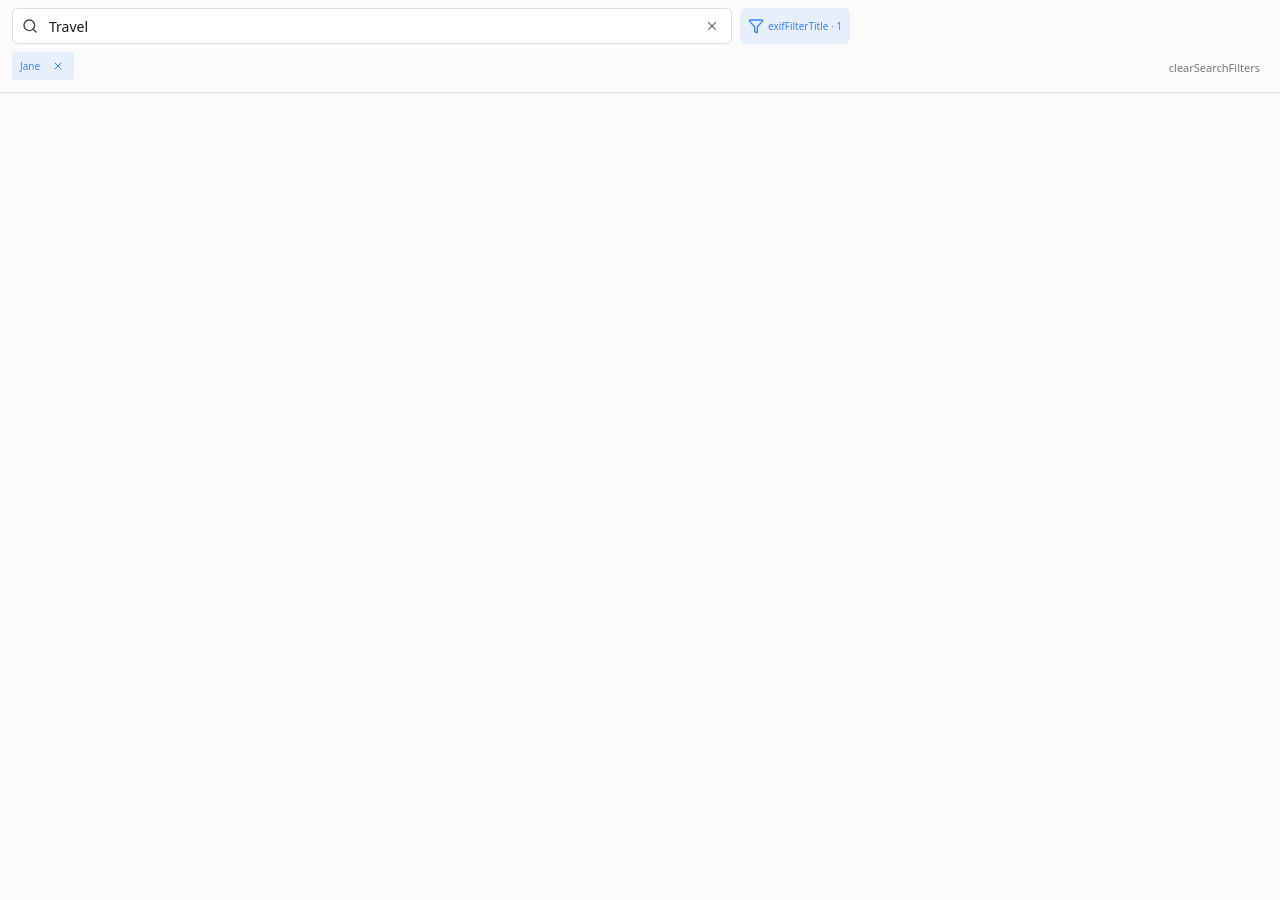
Test: SearchBar › keeps saved search controls inside the search dropdown without a persistent extra row
Expected: the text "搜索预设 (0)" is not shown
Click the dropdown with placeholder "搜索文件名、标签或人物" at (372, 26), box top-left (12, 8), bottom-right (732, 44)
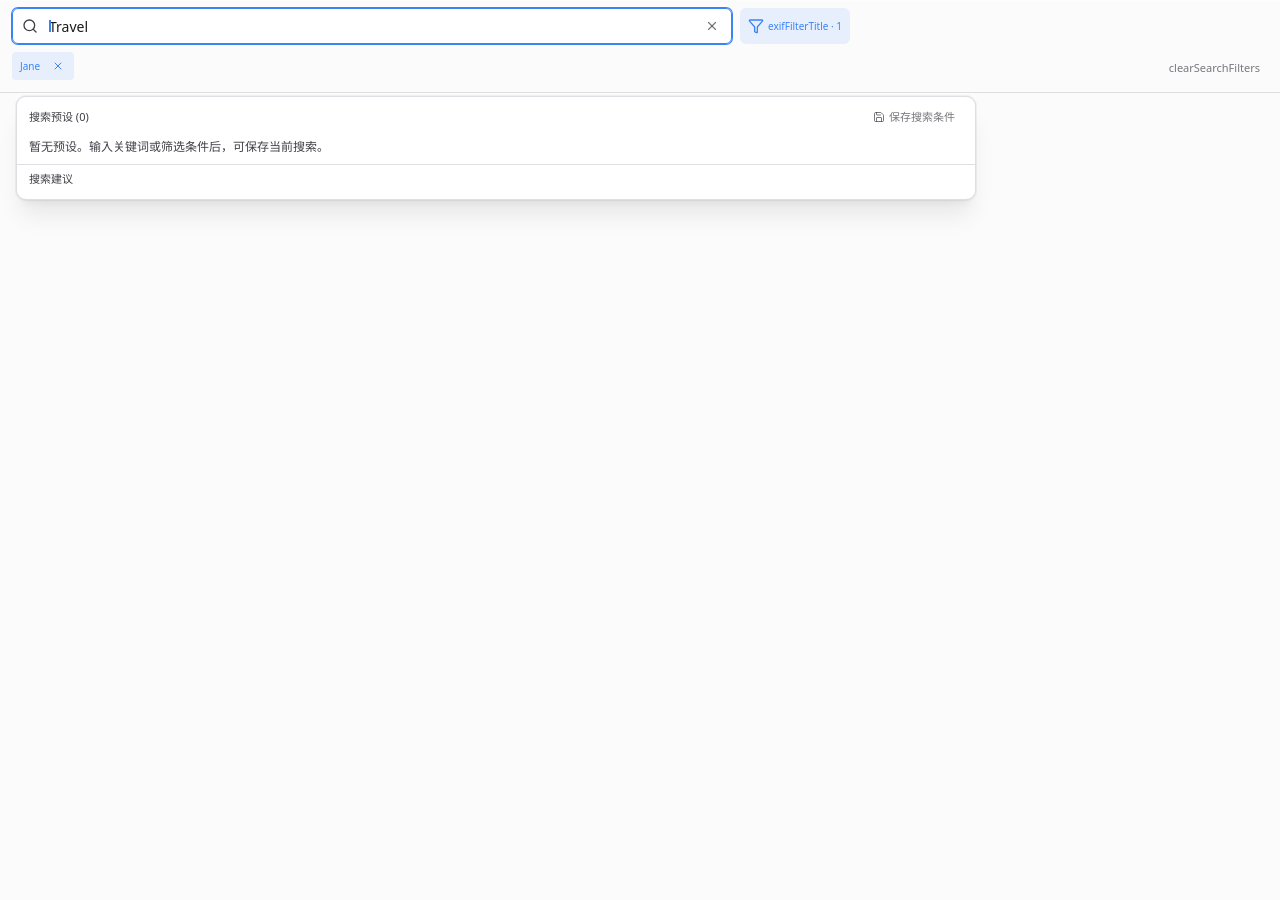
Result: the text "搜索预设 (0)" is shown at top-left (29, 109), bottom-right (89, 124)
Click the button "保存搜索条件" at (914, 117), box top-left (865, 105), bottom-right (963, 130)
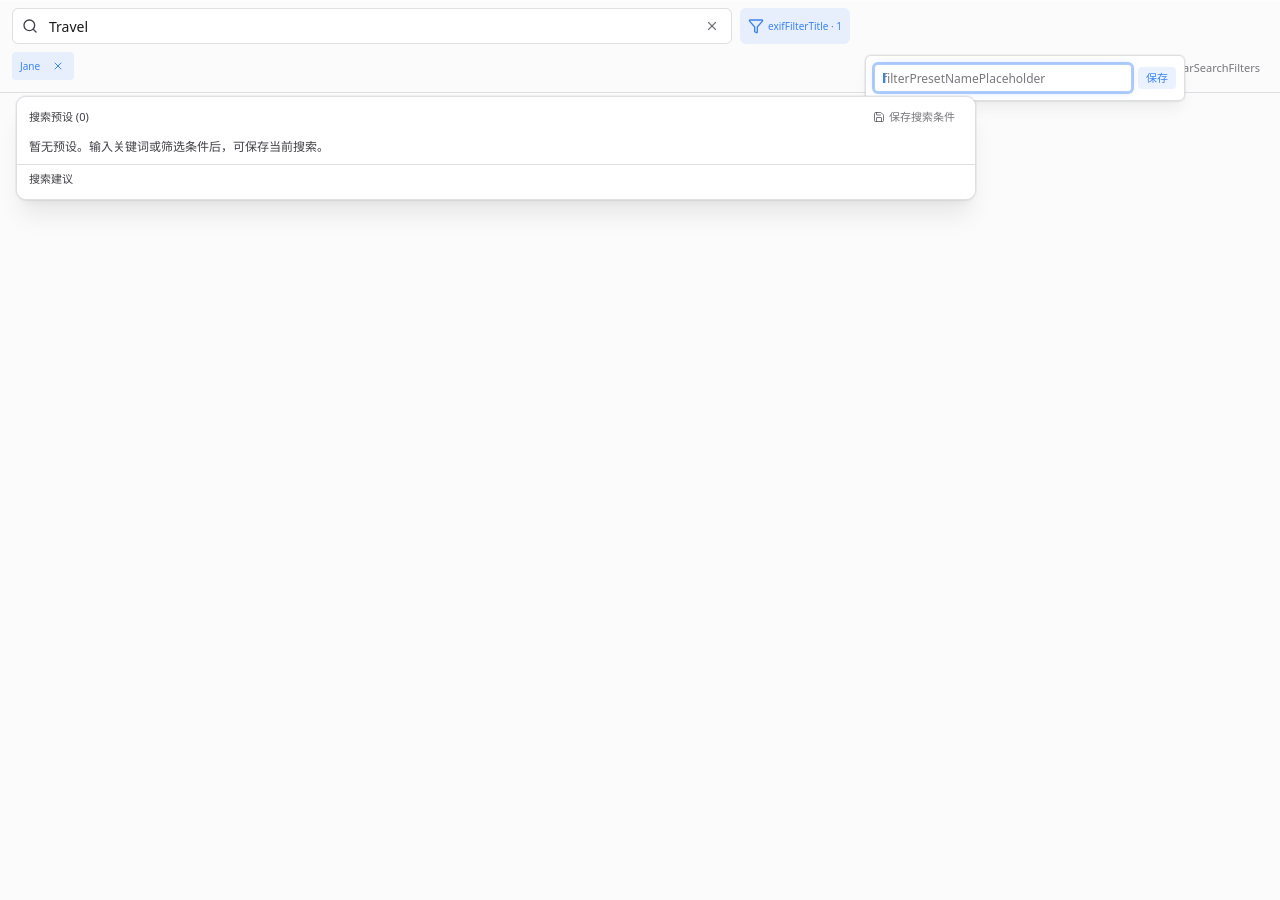
Type "Travel preset" into the field with placeholder "filterPresetNamePlaceholder" at (1003, 78), box top-left (874, 64), bottom-right (1132, 92)
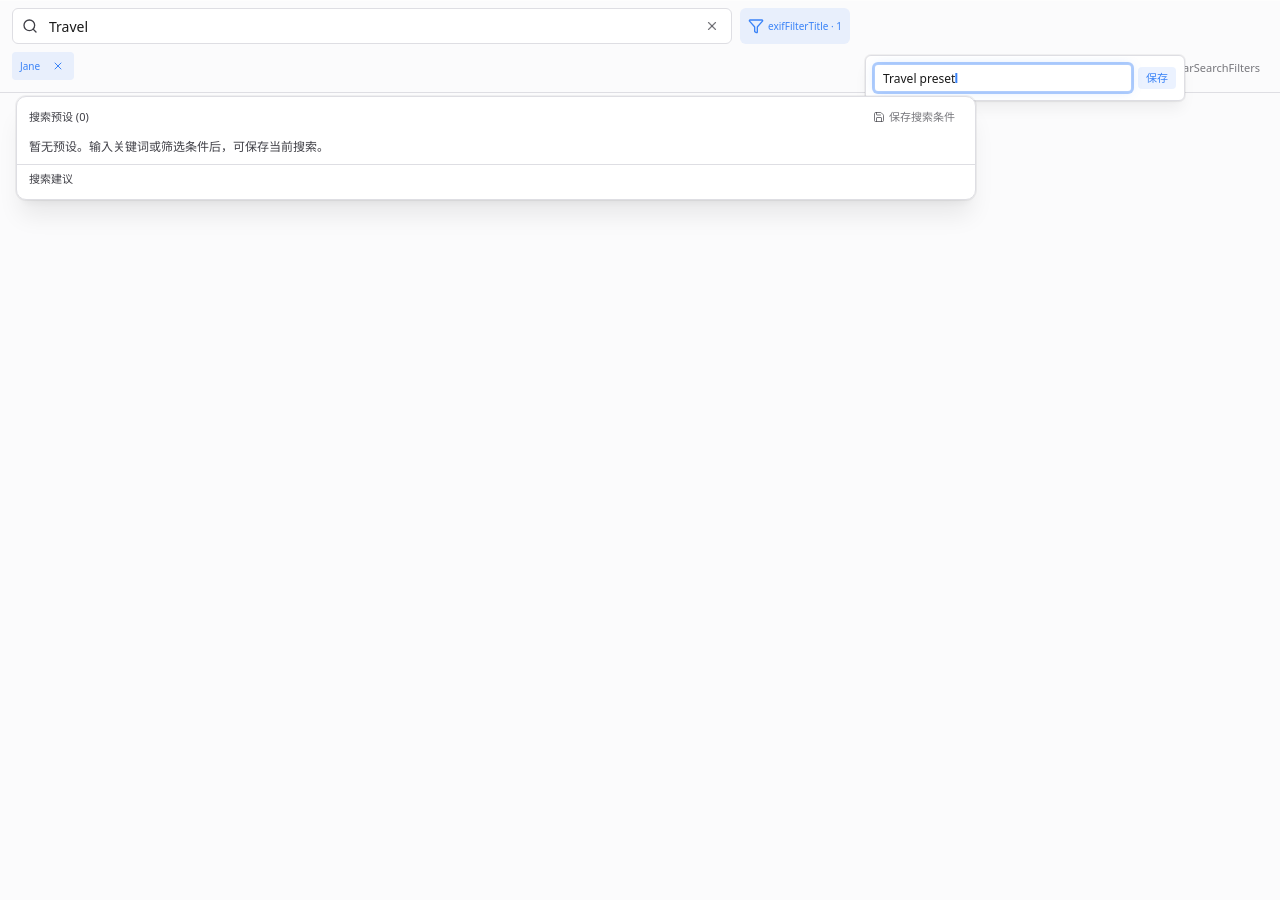
Click the button "保存" at (1157, 78), box top-left (1138, 67), bottom-right (1176, 89)
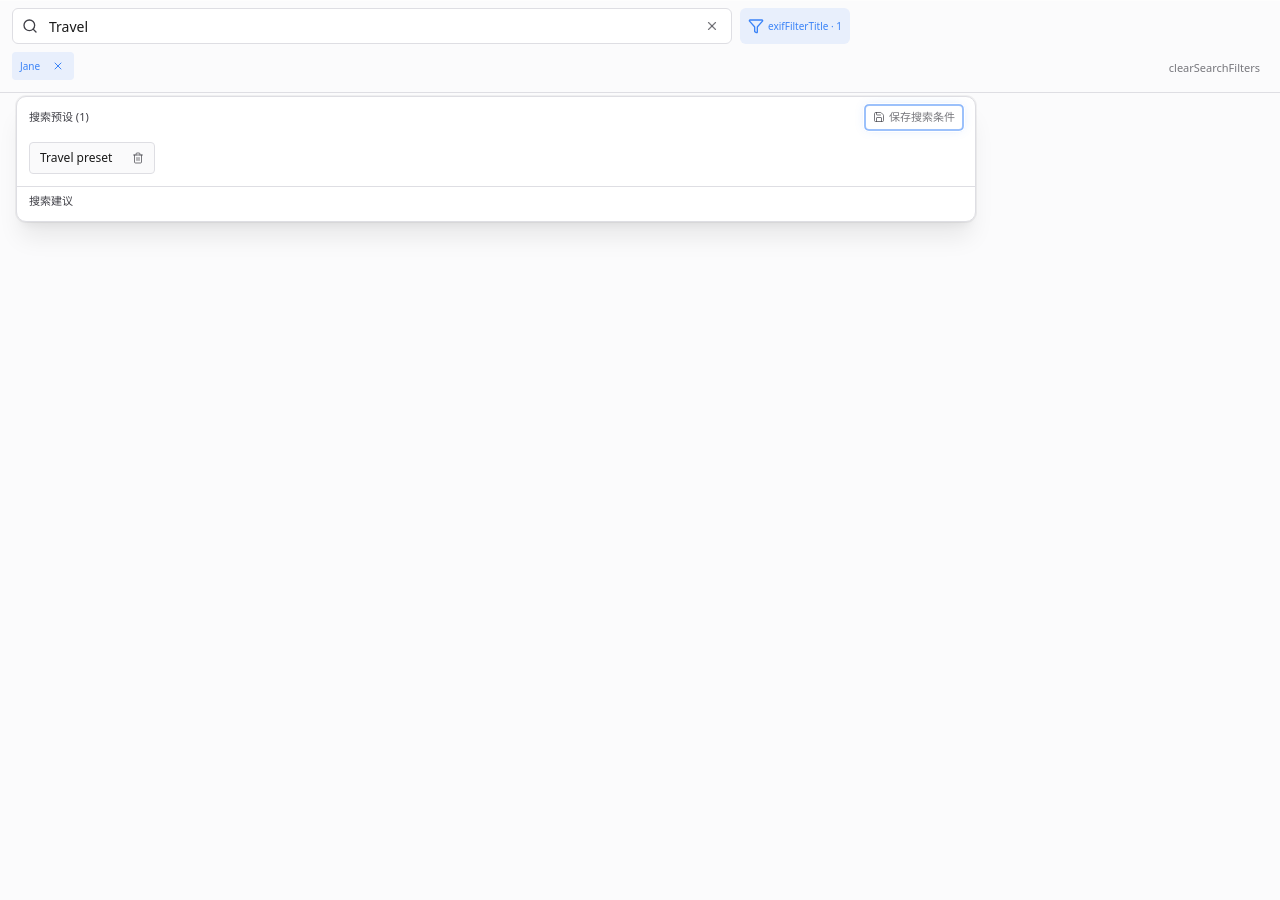
Click the button "Travel preset" at (76, 158), box top-left (30, 142), bottom-right (122, 172)
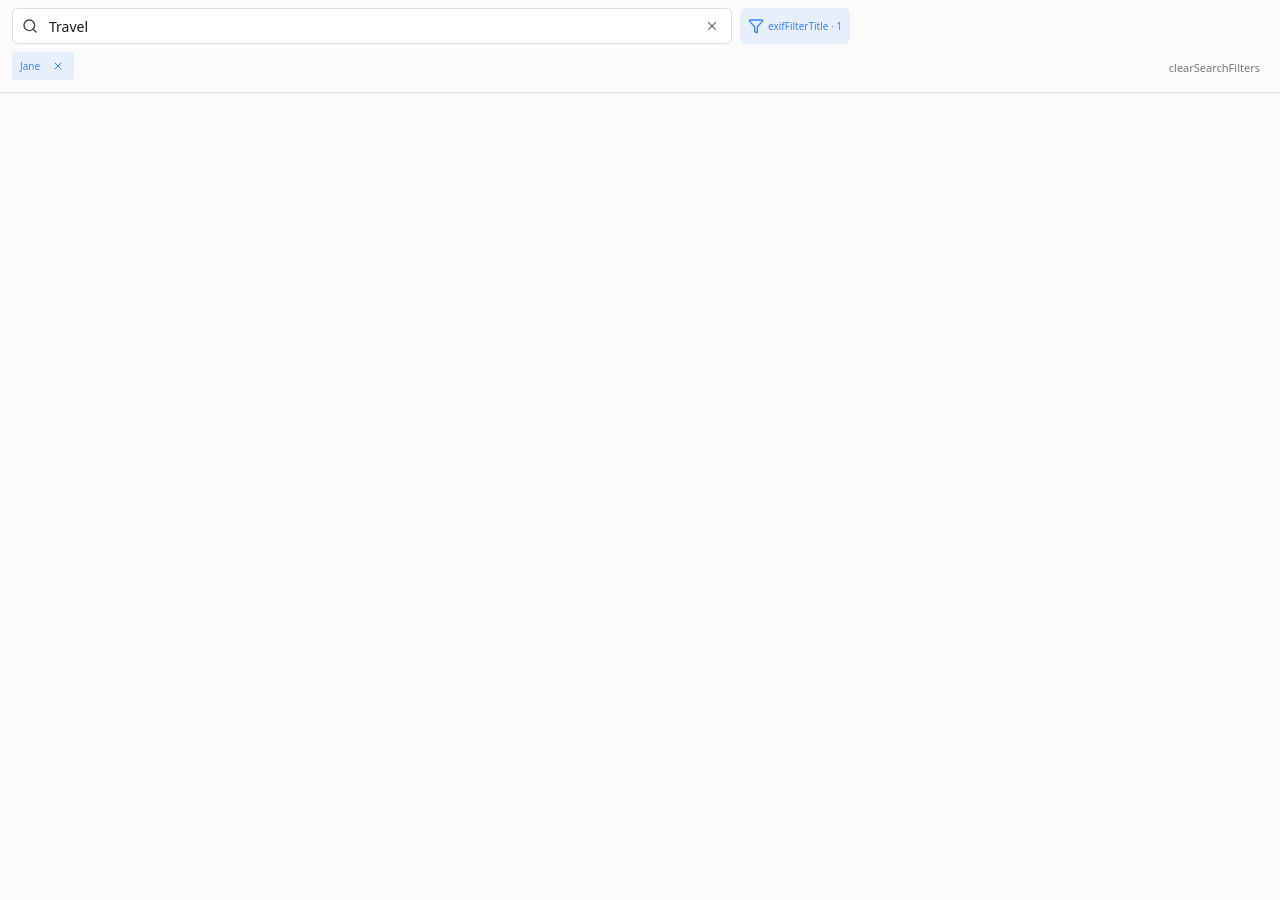
Result: the text "搜索预设 (1)" is gone
